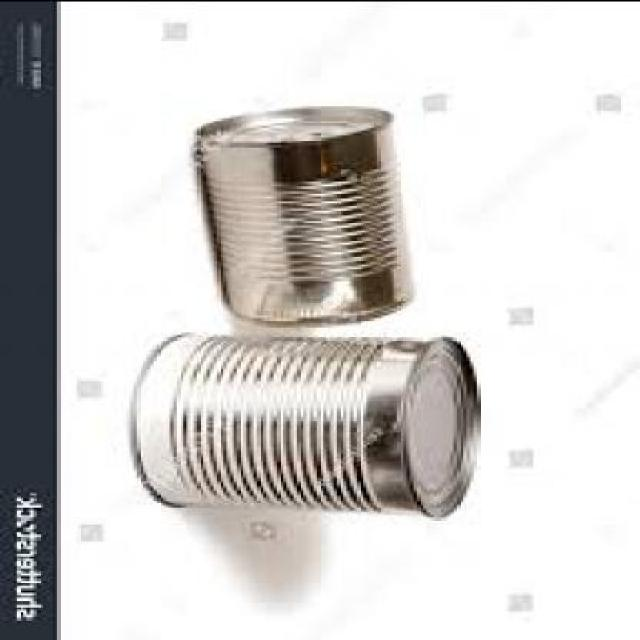METAL: (133, 333, 484, 521), (197, 107, 420, 328)
